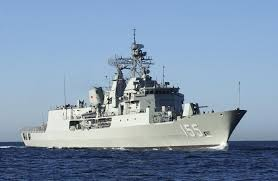tau_muctieu: (25, 70, 244, 154)
